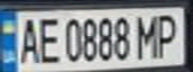0: (60, 14, 81, 63)
8: (78, 14, 100, 63), (112, 12, 133, 61), (96, 14, 115, 62)
A: (15, 14, 42, 65)
E: (33, 14, 63, 65)
M: (133, 11, 163, 60)
P: (151, 10, 187, 60)
